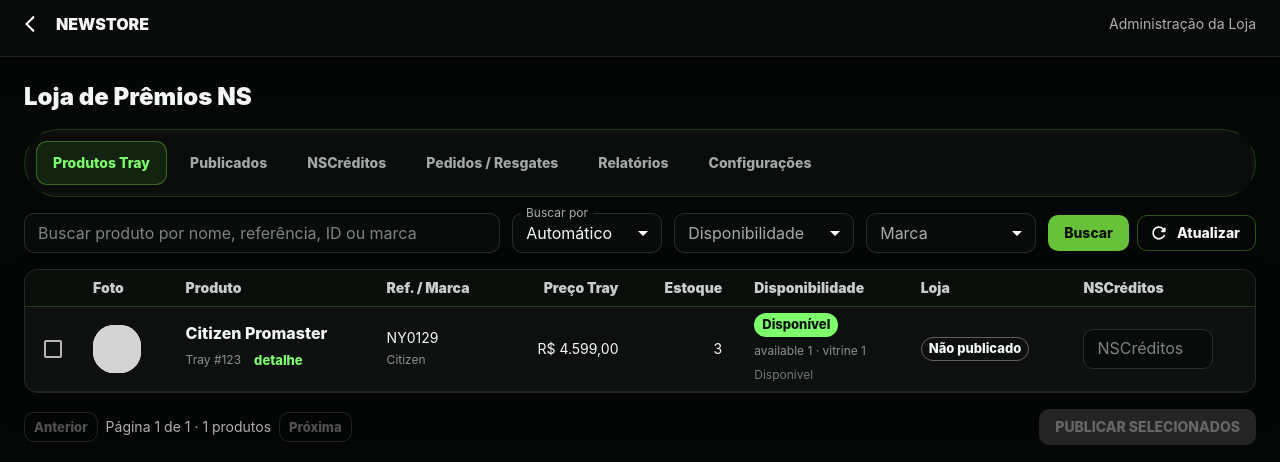
aba Produtos Tray › o campo NSCréditos recusa caracteres não numéricos
Expected: the text "Citizen Promaster" is shown, [186,322,327,342]
Type "ab1c2,5" into the field labelled "NSCréditos". click: point(1148, 349)
box: [1083,329,1213,369]
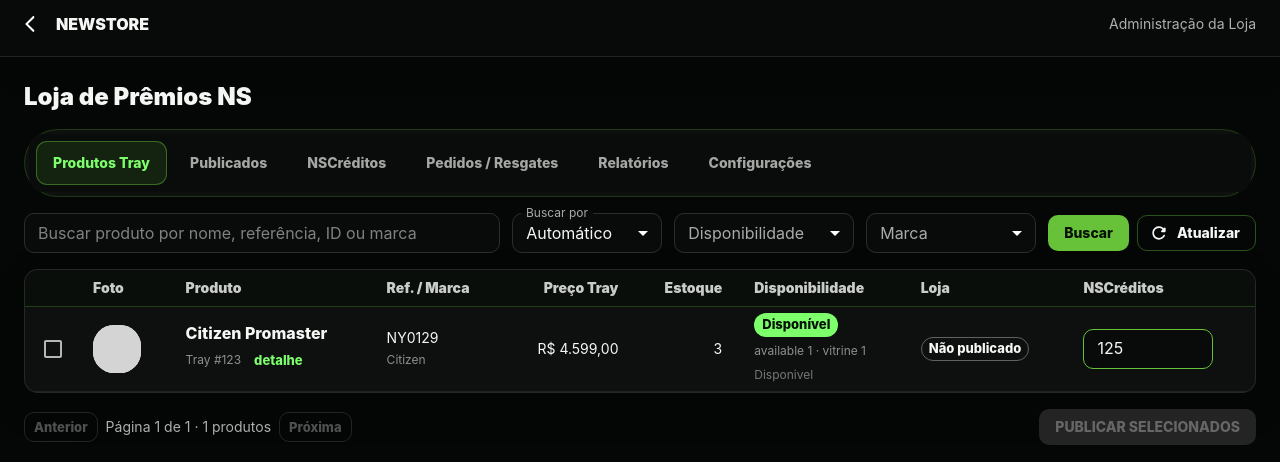
Expected: the field named "NSCréditos" holds "125", [1083,329,1213,369]
